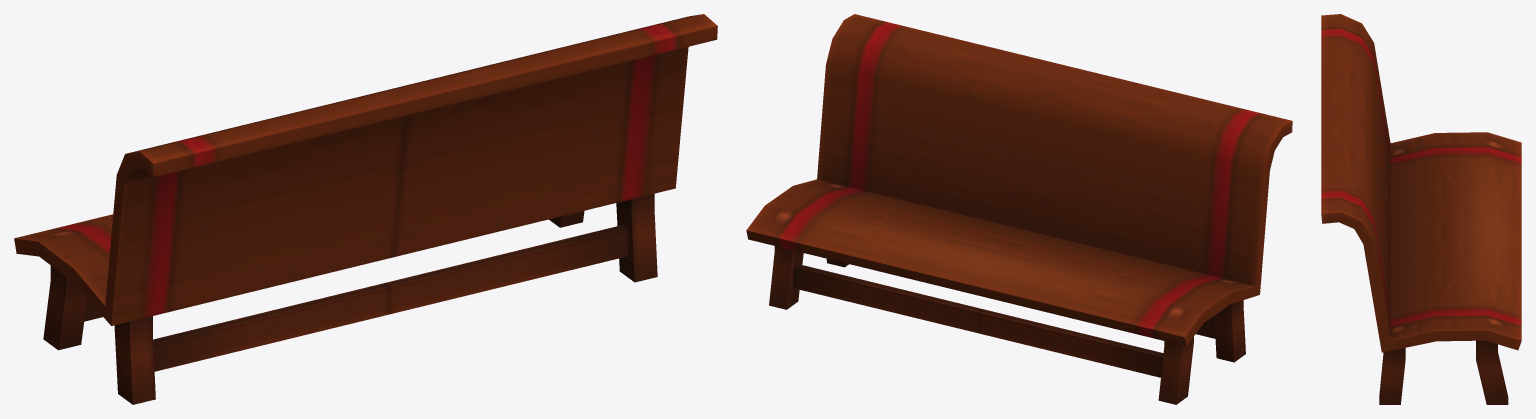
File: Church_Chair.FBX
The picture shows the model from 3 angles, left to right: view 1: azimuth 30°, elevation 25°; view 2: azimuth 150°, elevation 25°; view 3: azimuth 270°, elevation 25°; orthographic projection. The views are drawn at different scales.
Visible parts, largest first — view 1: Church_Chair; view 2: Church_Chair; view 3: Church_Chair.
Boxes of the visible parts, left/top/right/bottom form: Church_Chair: left=14, top=14, right=717, bottom=404; Church_Chair: left=746, top=14, right=1292, bottom=404; Church_Chair: left=1321, top=14, right=1521, bottom=404.
Size of the model in its own units: 74.39 by 34.97 by 31.82.
